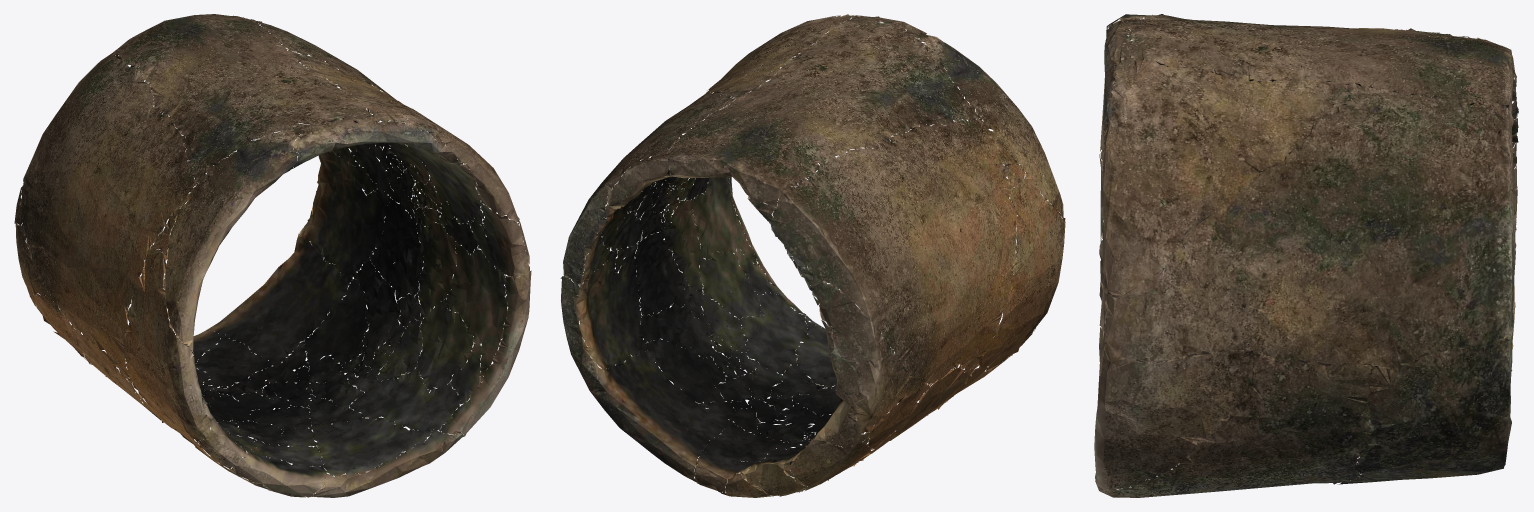
The picture shows the model from 3 angles, left to right: view 1: azimuth 30°, elevation 25°; view 2: azimuth 150°, elevation 25°; view 3: azimuth 270°, elevation 25°; orthographic projection. The views are drawn at different scales.
Parts seen in each view (by area): view 1: Mesh_0.003; view 2: Mesh_0.003; view 3: Mesh_0.003.
Part boxes in pixels (x1,y1,x2,y2): Mesh_0.003: (14,14,531,497); Mesh_0.003: (560,14,1065,497); Mesh_0.003: (1094,14,1518,497).
Bounding box in the file's own units: 0.1634 × 0.1611 × 0.1444.
Materials: 1 (1 with a texture image).
